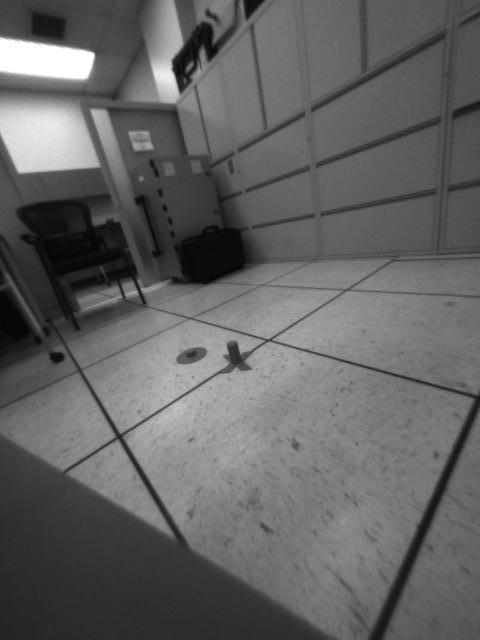X: (217, 340, 254, 374)
